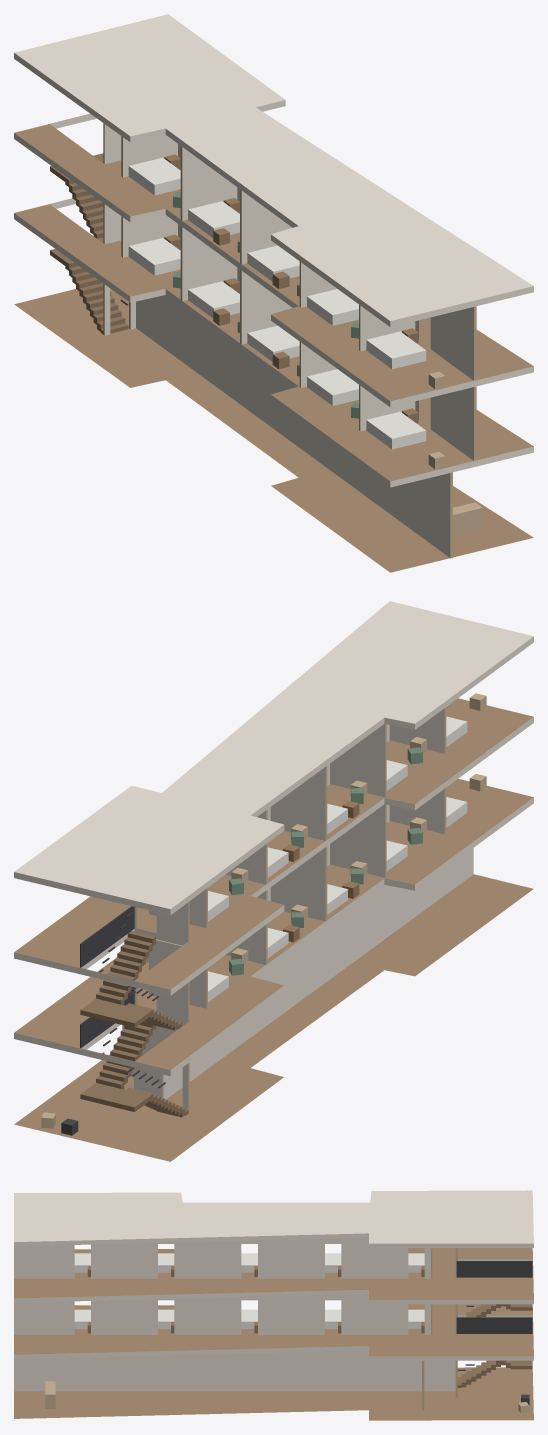
Rendered from interior.glb.
3 renders of one model, top to bottom at view 1: azimuth 30°, elevation 25°; view 2: azimuth 150°, elevation 25°; view 3: azimuth 270°, elevation 25°, orthographic. The views are drawn at different scales.
Parts seen in each view (by area): view 1: slabs, partitions, coarse-s1, coarse-s2, stair, coarse-s0; view 2: slabs, partitions, stair, coarse-s1, coarse-s2; view 3: slabs, partitions, stair, coarse-s1, coarse-s2, coarse-s0.
Part boxes in pixels (x1,y1,x2,y2): slabs: (14,14,533,572); partitions: (103,123,476,558); coarse-s1: (128,234,445,469); coarse-s2: (128,154,445,388); stair: (50,153,128,334); coarse-s0: (453,502,482,535); slabs: (14,601,533,1161); partitions: (122,707,473,1112); stair: (80,906,188,1117); coarse-s1: (208,774,486,1001); coarse-s2: (208,693,486,921); slabs: (14,1190,533,1420); partitions: (14,1237,457,1410); stair: (456,1261,532,1387); coarse-s1: (74,1309,424,1333); coarse-s2: (74,1253,424,1276); coarse-s0: (45,1381,529,1413).
Bounding box in the file's own units: 6.91 × 10.71 × 28.5.
